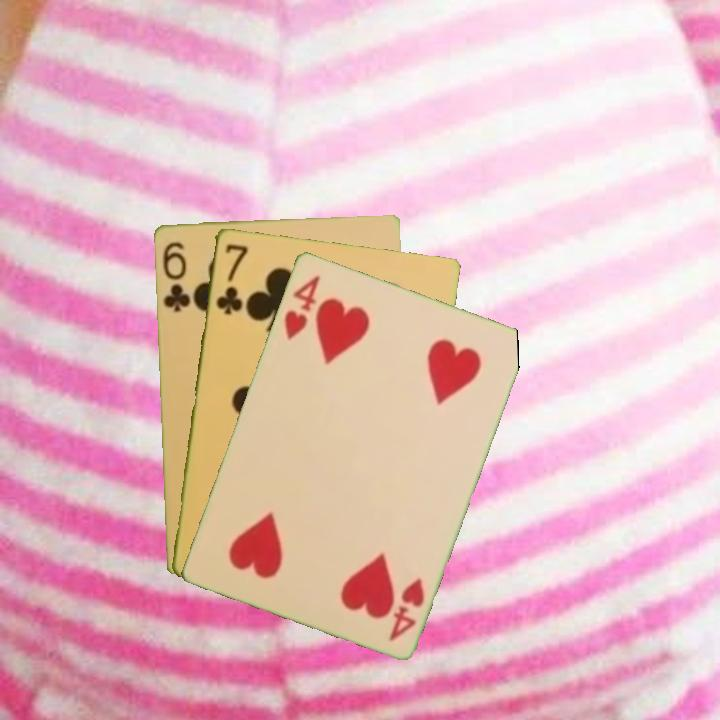4h: (280, 271, 323, 343), (385, 573, 427, 644)
6c: (158, 238, 193, 314)
7c: (212, 240, 250, 317)
